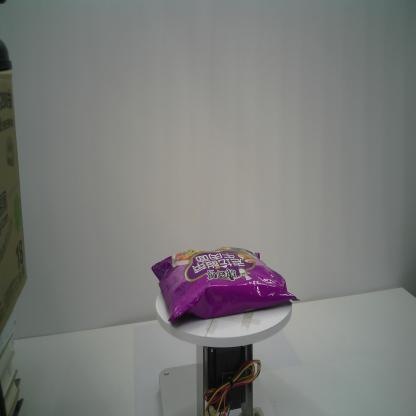Instant Noodles: (151, 246, 301, 326)
